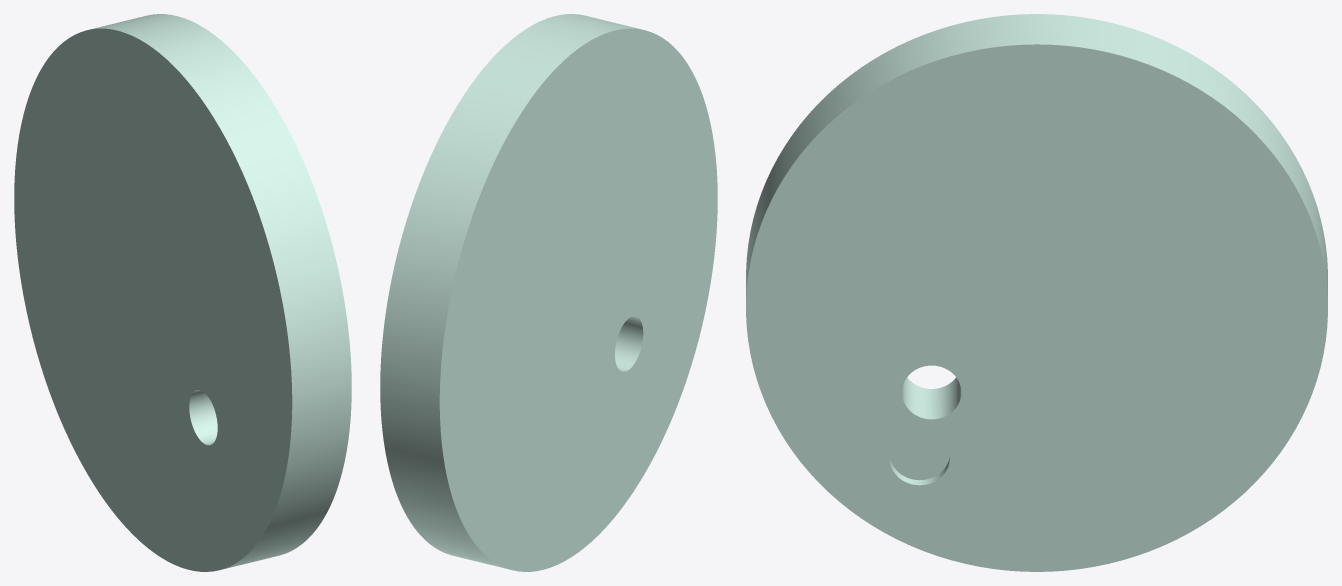
3 renders of one model, left to right at view 1: azimuth 30°, elevation 25°; view 2: azimuth 150°, elevation 25°; view 3: azimuth 270°, elevation 25°, orthographic. The views are drawn at different scales.
Parts seen in each view (by area): view 1: Renderer Node; view 2: Renderer Node; view 3: Renderer Node.
Part boxes in pixels (left/top/right/bottom): Renderer Node: left=14, top=14, right=351, bottom=571; Renderer Node: left=380, top=14, right=717, bottom=571; Renderer Node: left=746, top=14, right=1327, bottom=571.
Bounding box in the file's own units: 0.1875 × 1.52 × 1.52.
